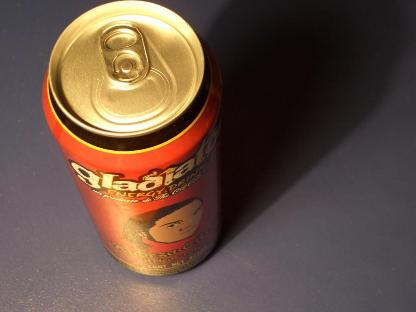Can: (30, 0, 238, 280)
